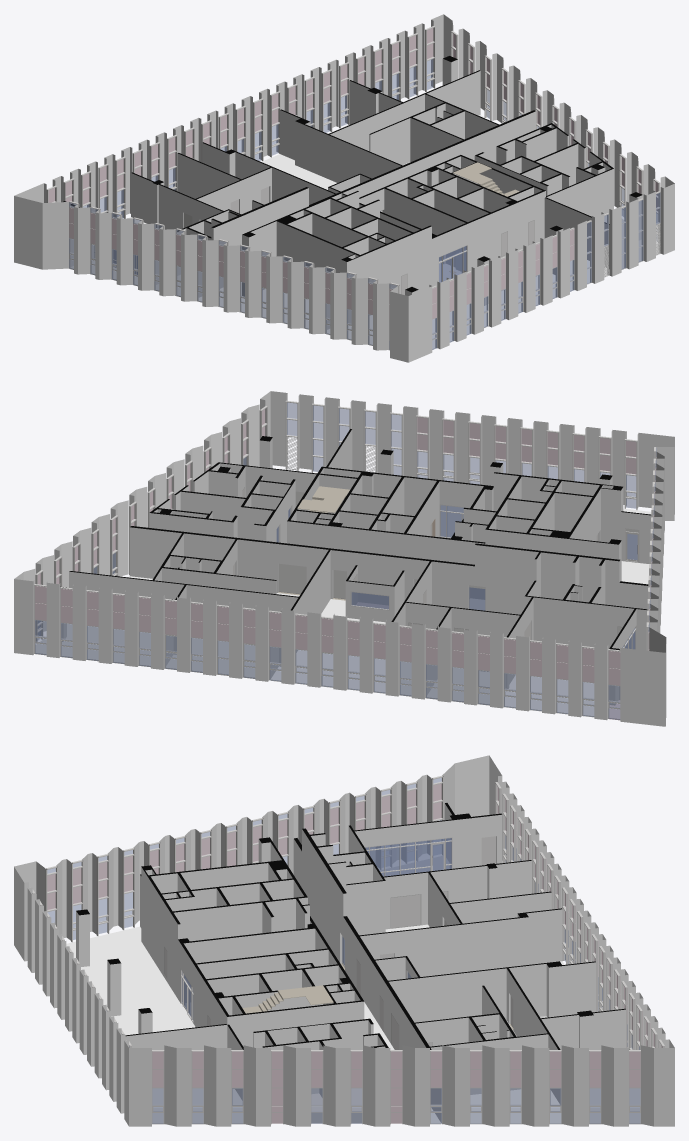
3 renders of one model, top to bottom at view 1: azimuth 30°, elevation 25°; view 2: azimuth 150°, elevation 25°; view 3: azimuth 270°, elevation 25°, orthographic. The views are drawn at different scales.
Parts seen in each view (by area): view 1: A7_17F_Wall001, A7_17F_Exterior001, A7_17F_Windows001, A7_17F_WindowFrame001, A7_17F_Floor001, A7_17F_Door001, A7_17F_AutoDoor001, A7_17F_Stairs001; view 2: A7_17F_Wall001, A7_17F_Exterior001, A7_17F_Windows001, A7_17F_WindowFrame001, A7_17F_Floor001, A7_17F_Door001, A7_17F_AutoDoor001, A7_17F_Stairs001, A7_17F_Glass001, A7_17F_Vent001; view 3: A7_17F_Wall001, A7_17F_Exterior001, A7_17F_Windows001, A7_17F_WindowFrame001, A7_17F_Floor001, A7_17F_Door001, A7_17F_Stairs001, A7_17F_AutoDoor001.
Boxes of the visible parts, box(x1,y1,x2,y2) form: A7_17F_Wall001: box(63, 56, 642, 329); A7_17F_Exterior001: box(14, 14, 674, 362); A7_17F_Windows001: box(48, 28, 660, 349); A7_17F_WindowFrame001: box(46, 26, 660, 350); A7_17F_Floor001: box(70, 86, 658, 349); A7_17F_Door001: box(94, 186, 568, 294); A7_17F_AutoDoor001: box(380, 210, 467, 282); A7_17F_Stairs001: box(453, 162, 519, 196); A7_17F_Wall001: box(60, 429, 651, 705); A7_17F_Exterior001: box(14, 391, 674, 726); A7_17F_Windows001: box(35, 402, 656, 719); A7_17F_WindowFrame001: box(34, 400, 656, 718); A7_17F_Floor001: box(35, 505, 651, 720); A7_17F_Door001: box(233, 487, 639, 649); A7_17F_AutoDoor001: box(276, 504, 485, 610); A7_17F_Stairs001: box(297, 486, 349, 512); A7_17F_Glass001: box(350, 591, 389, 610); A7_17F_Vent001: box(287, 437, 375, 472); A7_17F_Wall001: box(76, 803, 625, 1123); A7_17F_Exterior001: box(14, 755, 674, 1126); A7_17F_Windows001: box(40, 778, 662, 1123); A7_17F_WindowFrame001: box(32, 775, 664, 1124); A7_17F_Floor001: box(66, 856, 640, 1124); A7_17F_Door001: box(164, 836, 513, 1090); A7_17F_Stairs001: box(242, 985, 333, 1013); A7_17F_AutoDoor001: box(180, 936, 344, 1022).
Size of the model in its own units: 48.28 by 6.18 by 46.07.
